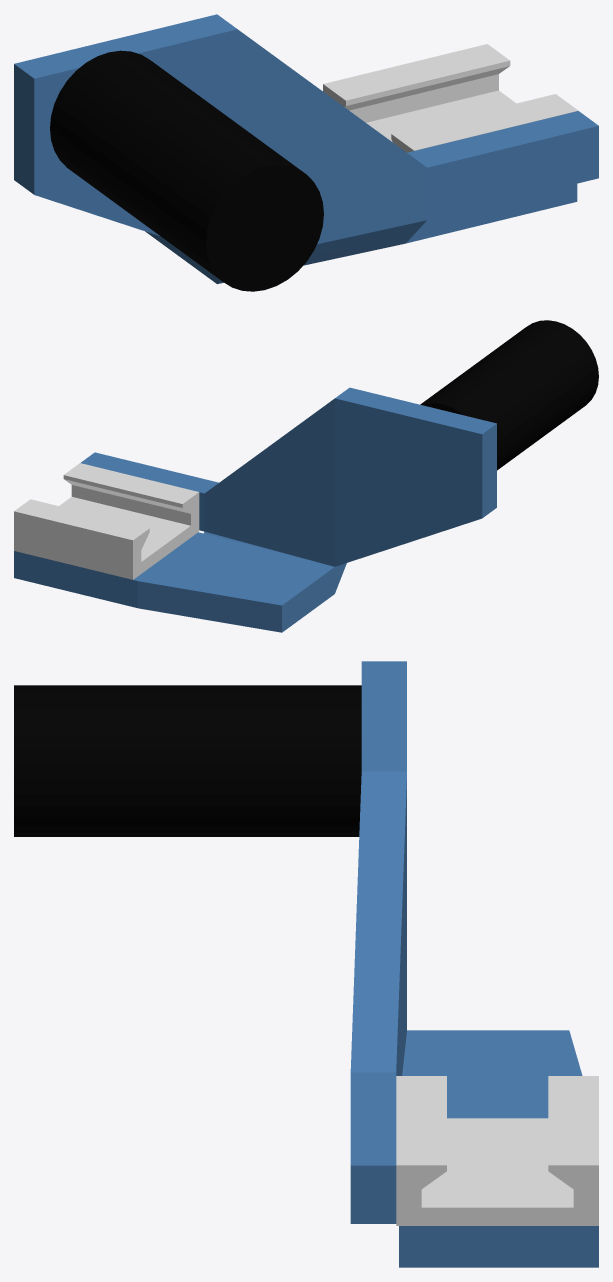
The model's file is VIS_ElbowWristLink.dae.
3 renders of one model, top to bottom at view 1: azimuth 30°, elevation 25°; view 2: azimuth 150°, elevation 25°; view 3: azimuth 270°, elevation 25°, orthographic. The views are drawn at different scales.
Parts seen in each view (by area): view 1: VIS_ElbowWristLink; view 2: VIS_ElbowWristLink; view 3: VIS_ElbowWristLink.
Boxes of the visible parts, x1,y1,x2,y2 form: VIS_ElbowWristLink: (14,14,598,291); VIS_ElbowWristLink: (14,320,598,632); VIS_ElbowWristLink: (14,661,598,1267).
Bounding box in the file's own units: 0.2278 × 0.1853 × 0.109.
